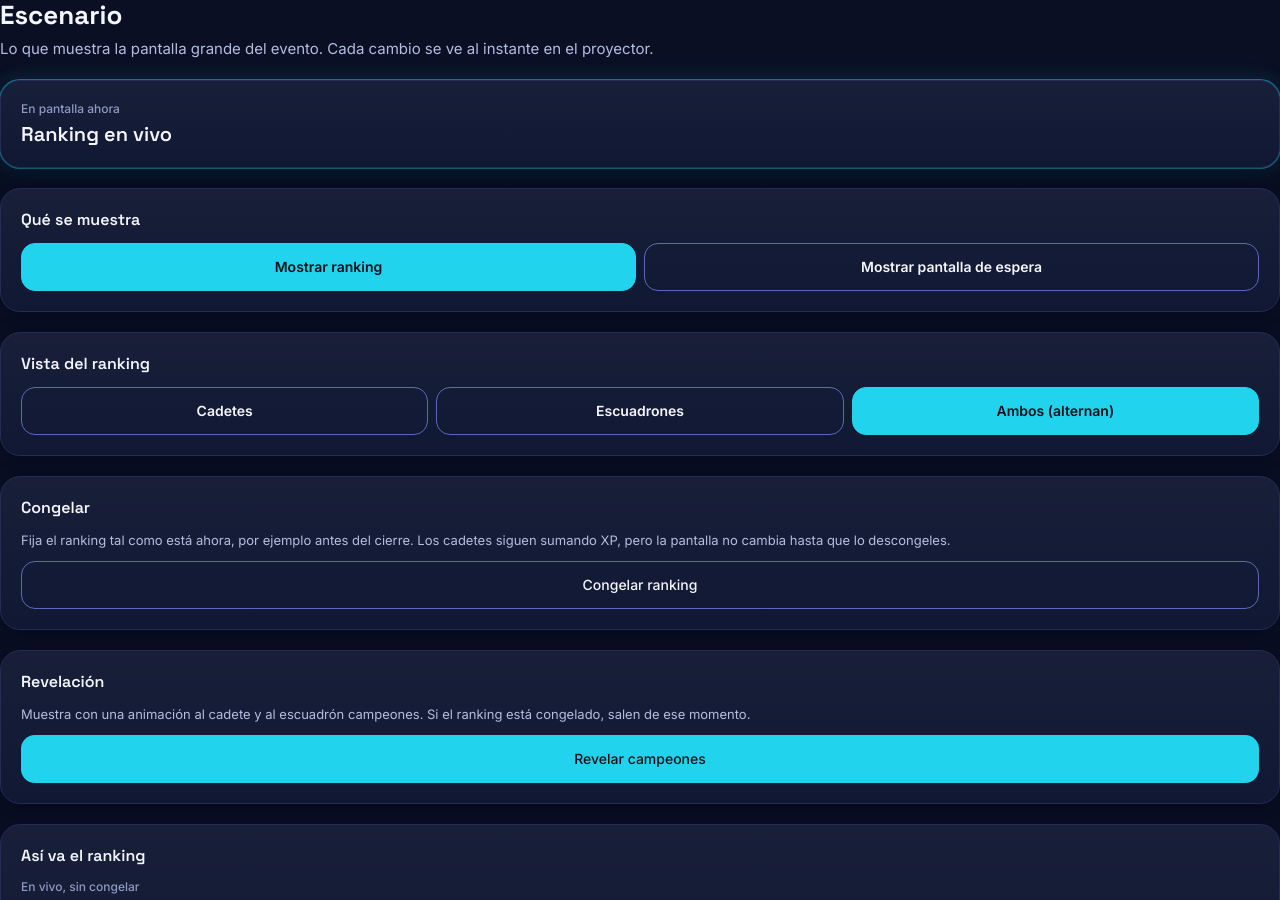
Test: StageControlView › sends Mostrar pantalla de espera and refreshes
The width and height of the screenshot is (1280, 900).
What coordinates should you click on to do the following:
click the button "Mostrar pantalla de espera"
I would click on:
 (952, 267)
Its box is top-left (644, 243), bottom-right (1259, 291).
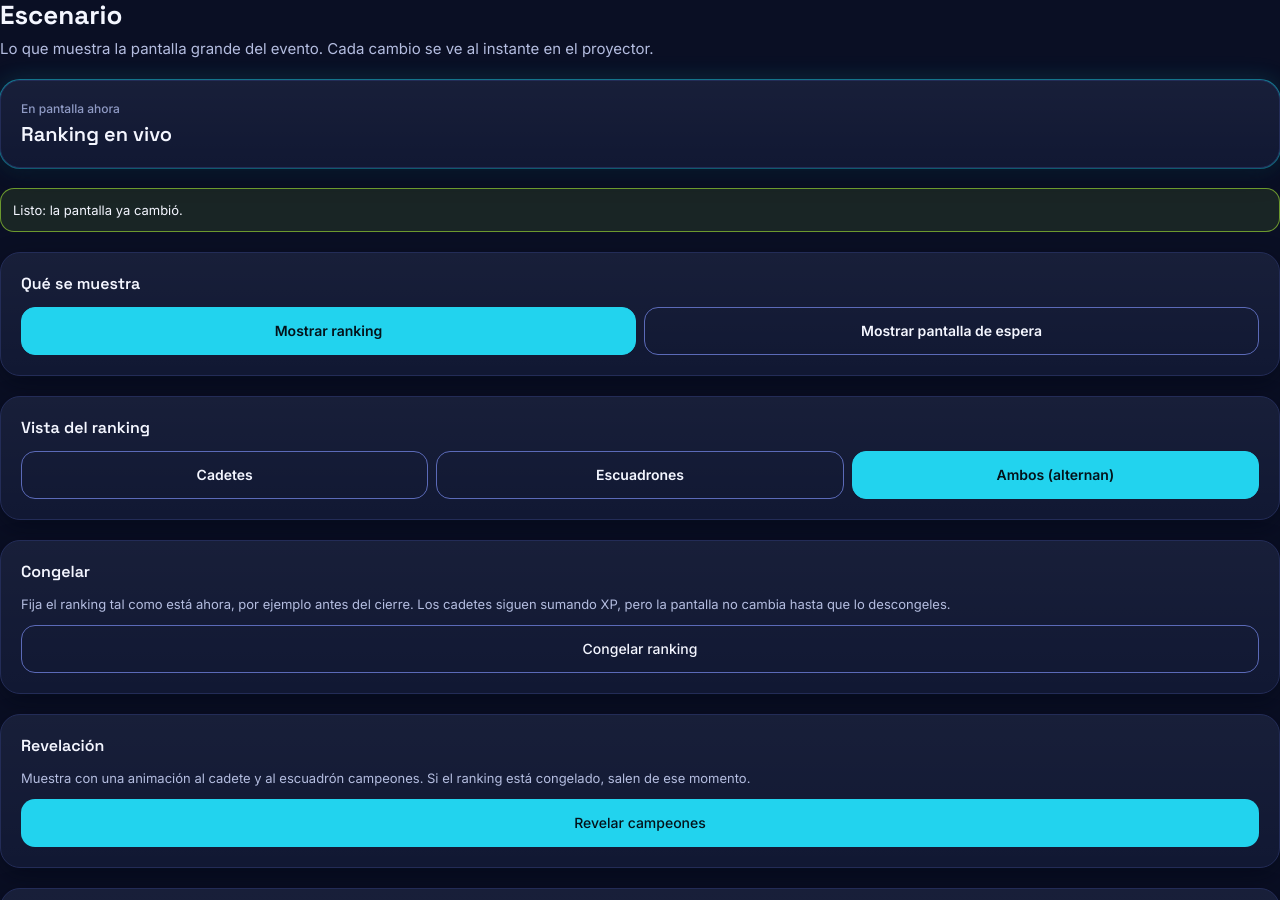
Check: the message reads "Listo: la pantalla ya cambió.", box top-left (13, 202), bottom-right (183, 218)
